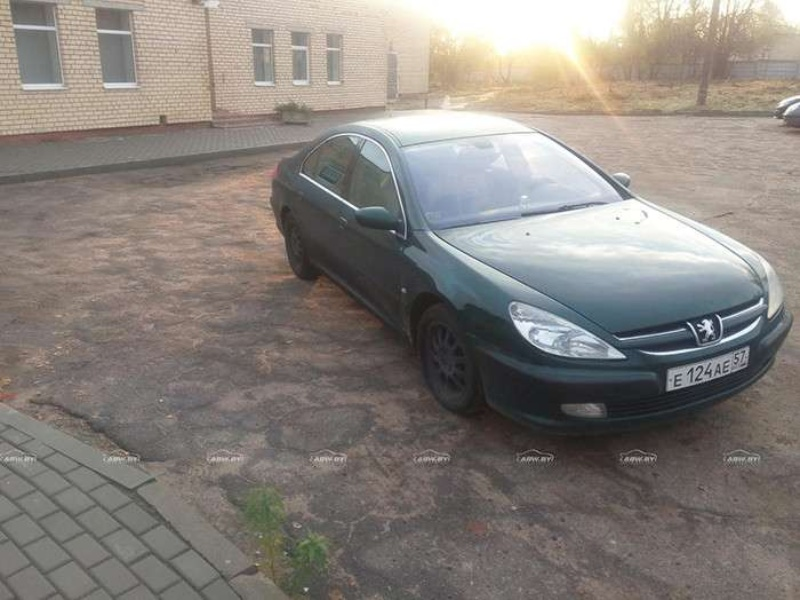car: (269, 110, 792, 435)
plate: (667, 347, 748, 391)
